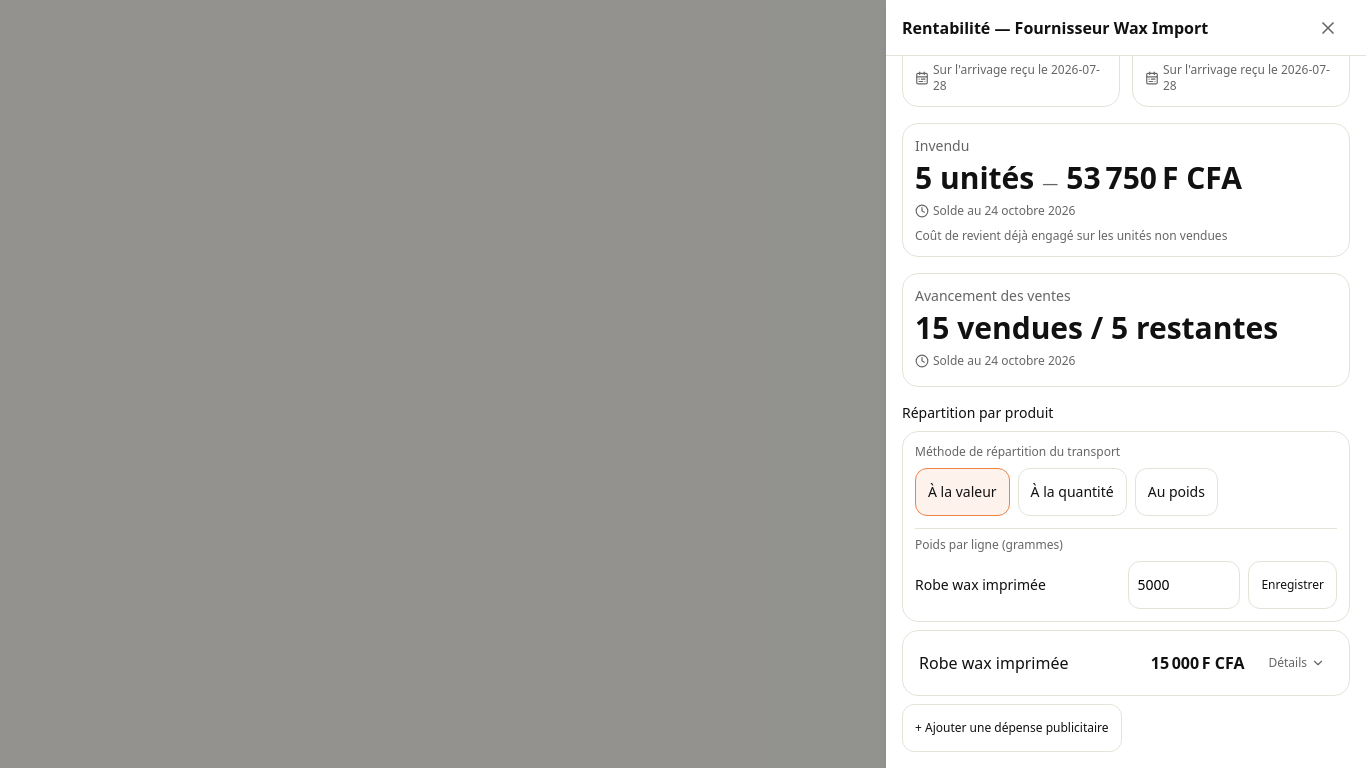
Test: PurchaseLotDetailPanel — branche succès (ok:true, allocationMethodAvailable:true) › rend la marge, les 4 métriques scopées, invendu, avancement et une ListCard par produit
(page scrolled)
Expected: the text "Invendu" is shown, [915,136,969,155]
Expected: the text "5 unités" is shown, [915,160,1034,196]
Click the button "Détails" at (1297, 663), box [1260,639,1333,687]
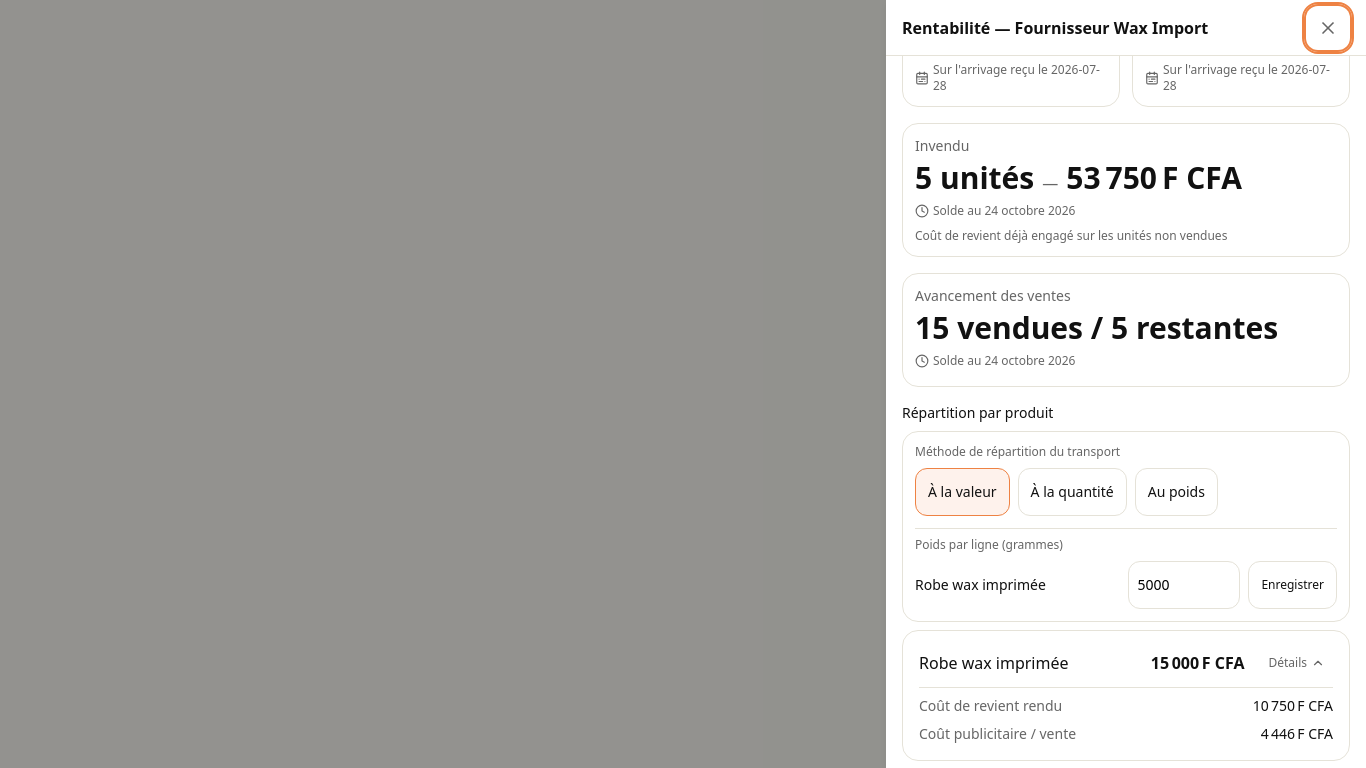
Now the text "Coût de revient rendu" is shown, box [919,696,1062,716]
Now the text "Coût publicitaire / vente" is shown, box [919,724,1076,744]
